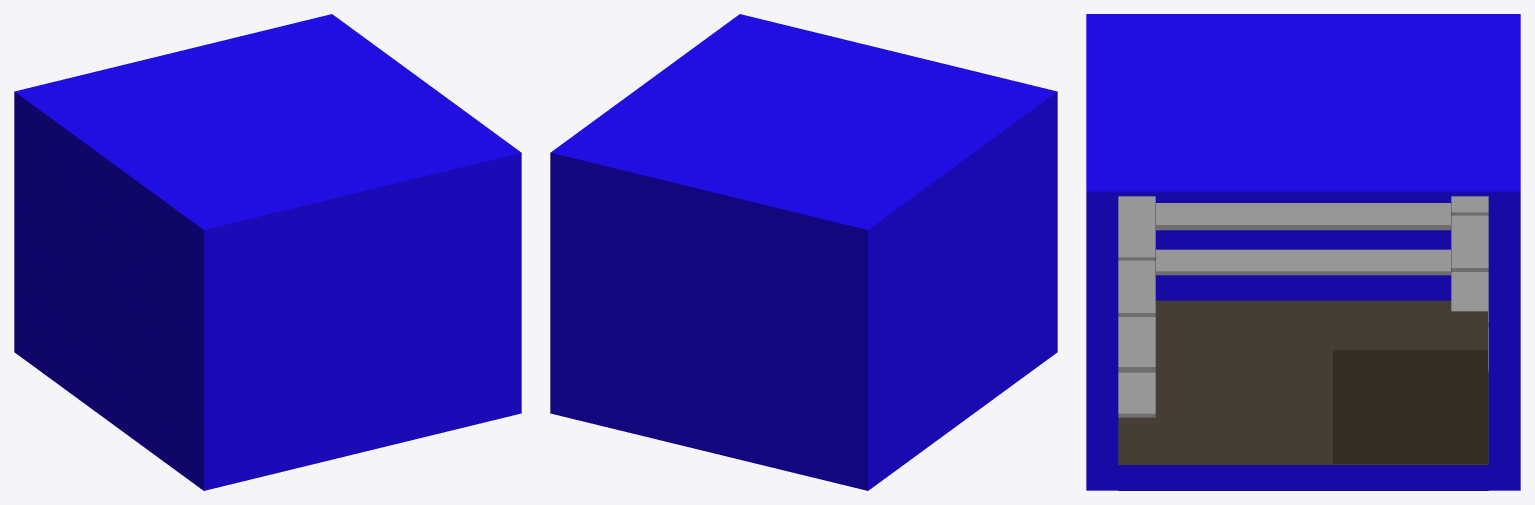
The model's file is StandC.fbx.
3 views of the same model, side by side, from view 1: azimuth 30°, elevation 25°; view 2: azimuth 150°, elevation 25°; view 3: azimuth 270°, elevation 25° (orthographic). The views are drawn at different scales.
Visible parts, largest first — view 1: Stand3; view 2: Stand3; view 3: Stand3.
Part boxes in pixels (x1,y1,x2,y2): Stand3: (14, 14, 521, 490); Stand3: (550, 14, 1057, 490); Stand3: (1086, 14, 1520, 490).
Size of the model in its own units: 456 by 357 by 470.
